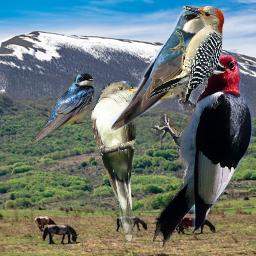Cuckoo: (91, 80, 145, 246)
Swallow: (106, 3, 214, 133), (32, 70, 96, 146)
Woodpecker: (145, 41, 255, 255), (144, 1, 235, 102)
